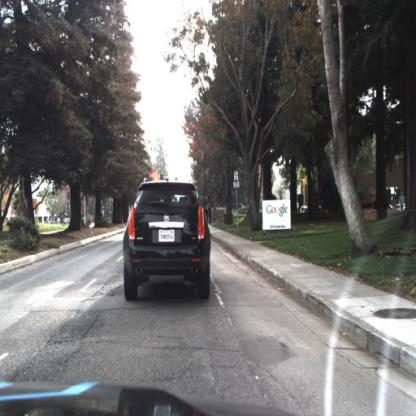car: (121, 177, 211, 300)
trafficLight-Green: (159, 174, 164, 185), (175, 176, 179, 184)
